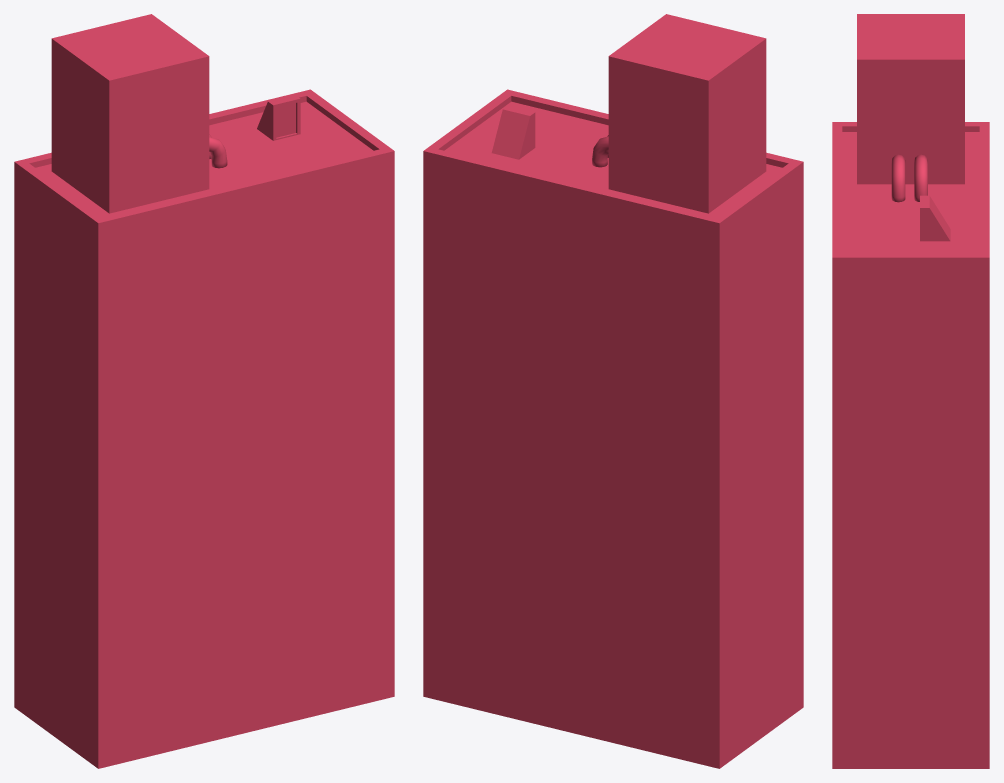
File: Building9_red.fbx
The picture shows the model from 3 angles, left to right: view 1: azimuth 30°, elevation 25°; view 2: azimuth 150°, elevation 25°; view 3: azimuth 270°, elevation 25°; orthographic projection. The views are drawn at different scales.
Visible parts, largest first — view 1: Building 9; view 2: Building 9; view 3: Building 9.
Part boxes in pixels (x1,y1,x2,y2): Building 9: (14, 14, 394, 768); Building 9: (423, 14, 803, 768); Building 9: (832, 14, 989, 768).
Size of the model in its own units: 2416 by 5243 by 1188.
Materials: 1 (1 with a texture image).
